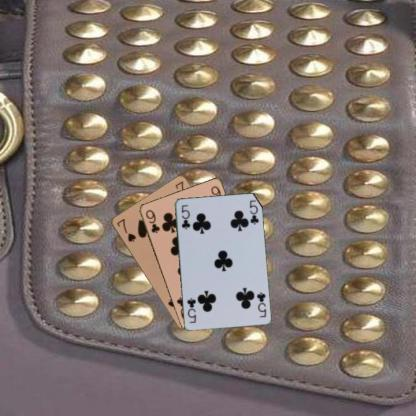5c: (254, 289, 267, 318), (179, 202, 191, 231)
7s: (114, 216, 137, 243)
9c: (142, 207, 160, 234)
